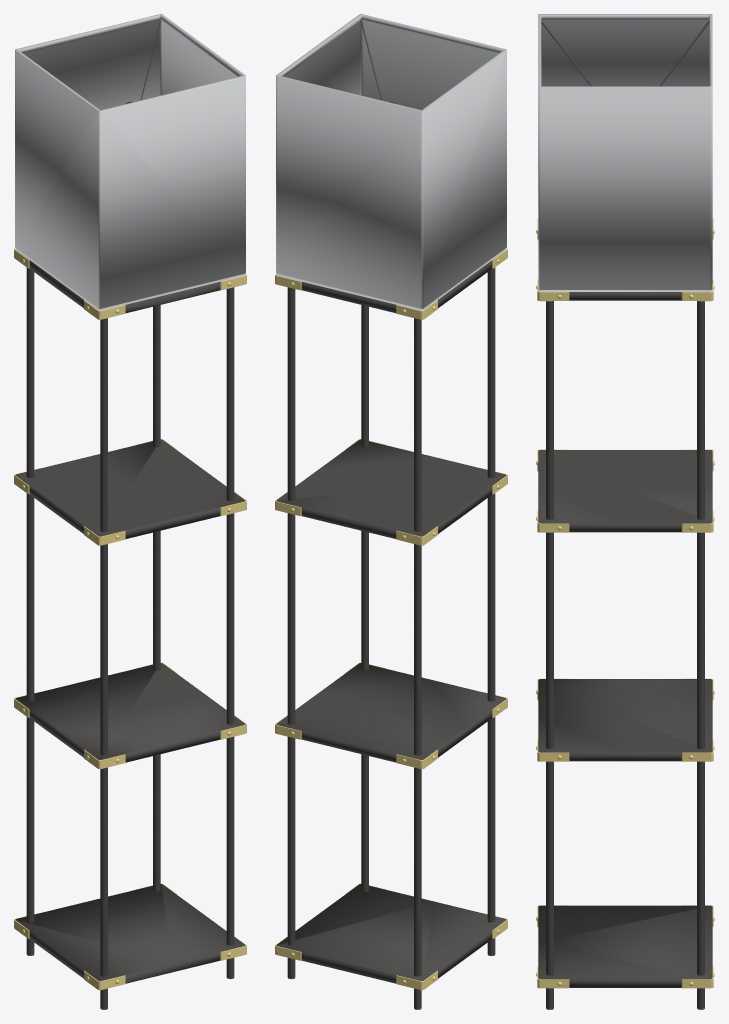
The model's file is B07MBFDWY5.glb.
3 views of the same model, side by side, from view 1: azimuth 30°, elevation 25°; view 2: azimuth 150°, elevation 25°; view 3: azimuth 270°, elevation 25° (orthographic). The views are drawn at different scales.
Parts seen in each view (by area): view 1: RootNode; view 2: RootNode; view 3: RootNode.
Boxes of the visible parts, x1=… form: RootNode: x1=14, y1=14, x2=246, y2=1009; RootNode: x1=275, y1=14, x2=507, y2=1009; RootNode: x1=536, y1=14, x2=714, y2=1009.
Size of the model in its own units: 0.279 by 1.59 by 0.2788.
1 material, 1 textured.
